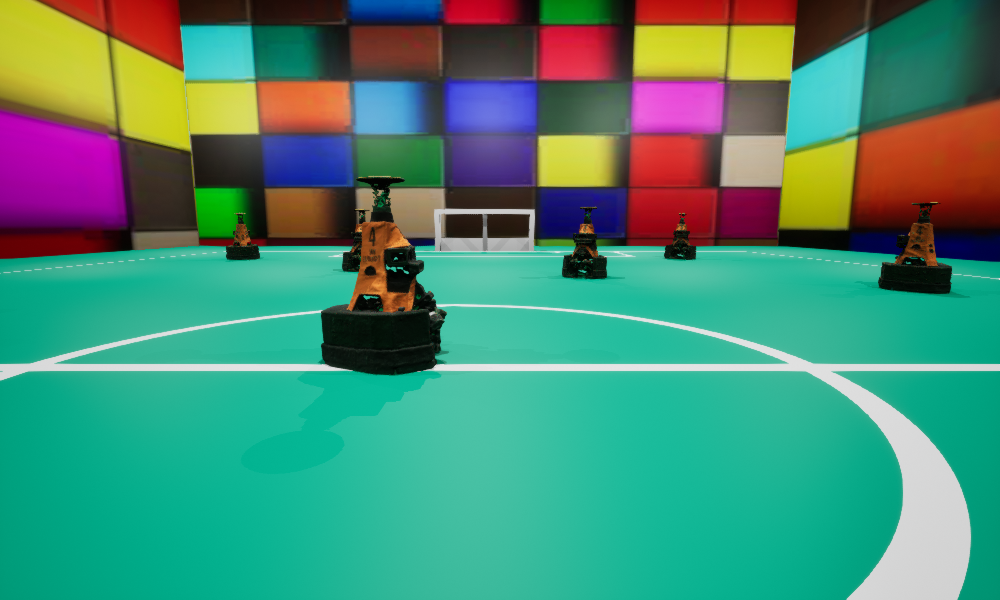0 orange robot TechUnited: (321, 176, 446, 374), (878, 202, 951, 293), (562, 207, 606, 277), (342, 209, 369, 271), (226, 213, 259, 259), (664, 213, 695, 258)
